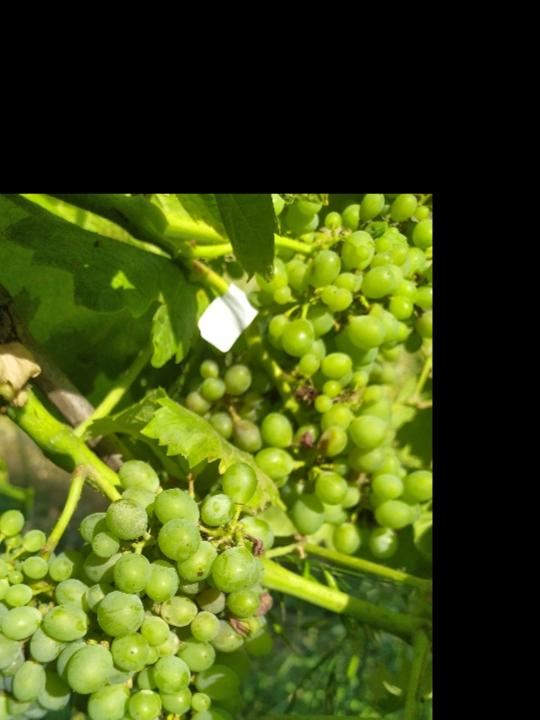grape: (0, 455, 285, 720)
